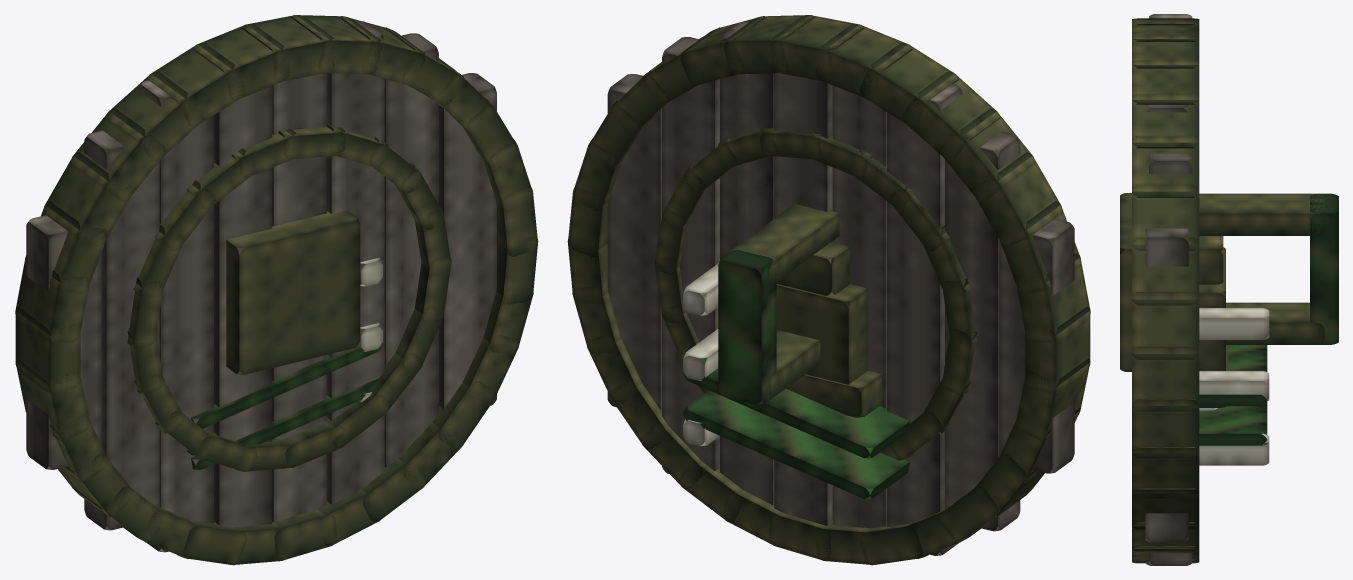
The model's file is bell_shield.obj.
The picture shows the model from 3 angles, left to right: view 1: azimuth 30°, elevation 25°; view 2: azimuth 150°, elevation 25°; view 3: azimuth 270°, elevation 25°; orthographic projection. The views are drawn at different scales.
Visible parts, largest first — view 1: lit; view 2: lit; view 3: lit.
Boxes of the visible parts, box(x1,y1,x2,y2) form: lit: box(15, 15, 538, 565); lit: box(567, 15, 1090, 565); lit: box(1120, 14, 1338, 565).
Size of the model in its own units: 1.42 by 1.42 by 0.5687.
